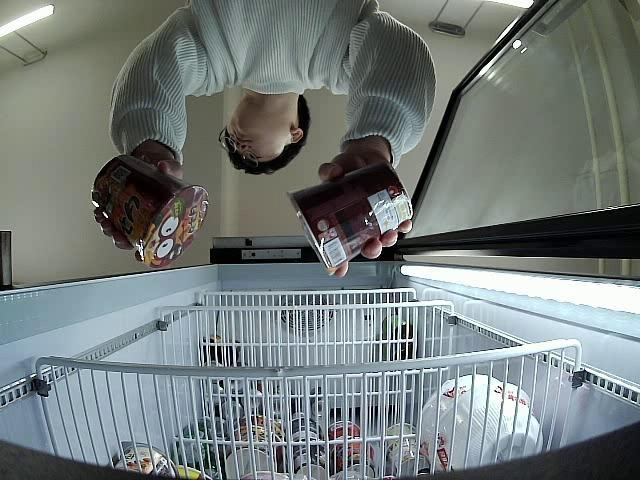06_nuguri_S: (92, 154, 208, 268), (286, 162, 410, 268)
